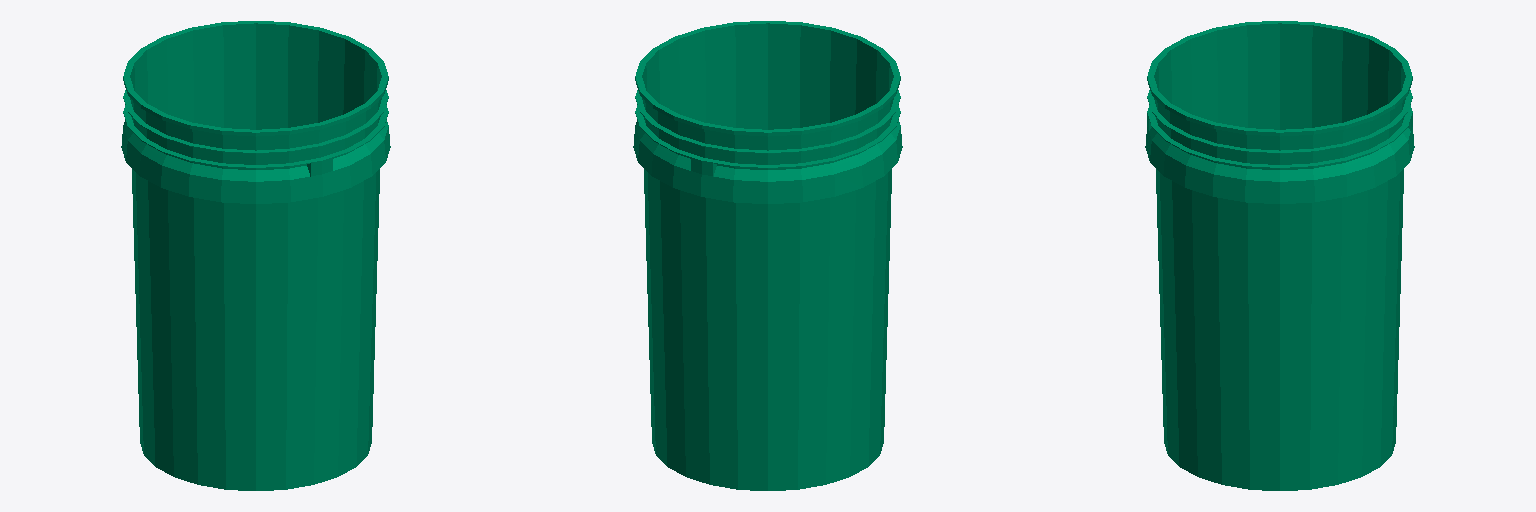
URDF robot description (partnet_c15eb21f-9968-4775-aaf6-b73289b06330):
<?xml version="1.0" ?>
<robot name="partnet_c15eb21f-9968-4775-aaf6-b73289b06330">
	<link name="base"/>
	<link name="link_0">
		<visual name="handle-1">
			<origin xyz="0 -0.5685596799850469 0.004653177049010923"/>
			<geometry>
				<mesh filename="textured_objs/original-14.obj"/>
			</geometry>
		</visual>
		<visual name="handle-1">
			<origin xyz="0 -0.5685596799850469 0.004653177049010923"/>
			<geometry>
				<mesh filename="textured_objs/original-11.obj"/>
			</geometry>
		</visual>
		<visual name="handle-1">
			<origin xyz="0 -0.5685596799850469 0.004653177049010923"/>
			<geometry>
				<mesh filename="textured_objs/original-13.obj"/>
			</geometry>
		</visual>
		<collision>
			<origin xyz="0 -0.5685596799850469 0.004653177049010923"/>
			<geometry>
				<mesh filename="manual_processed/original-11.obj"/>
			</geometry>
		</collision>
	</link>
	<joint name="joint_0" type="revolute">
		<origin xyz="0 0.5685596799850469 -0.004653177049010923"/>
		<axis xyz="-1 0 0"/>
		<child link="link_0"/>
		<parent link="link_1"/>
		<limit lower="-0.0439822971502571" upper="4.762654462842126"/>
	</joint>
	<link name="link_1">
		<visual name="base_body-2">
			<origin xyz="0 0 0"/>
			<geometry>
				<mesh filename="textured_objs/original-4.obj"/>
			</geometry>
		</visual>
		<visual name="base_body-2">
			<origin xyz="0 0 0"/>
			<geometry>
				<mesh filename="textured_objs/original-3.obj"/>
			</geometry>
		</visual>
		<visual name="base_body-2">
			<origin xyz="0 0 0"/>
			<geometry>
				<mesh filename="textured_objs/original-2.obj"/>
			</geometry>
		</visual>
		<visual name="base_body-2">
			<origin xyz="0 0 0"/>
			<geometry>
				<mesh filename="textured_objs/original-8.obj"/>
			</geometry>
		</visual>
		<visual name="base_body-2">
			<origin xyz="0 0 0"/>
			<geometry>
				<mesh filename="textured_objs/original-9.obj"/>
			</geometry>
		</visual>
		<visual name="base_body-2">
			<origin xyz="0 0 0"/>
			<geometry>
				<mesh filename="textured_objs/original-5.obj"/>
			</geometry>
		</visual>
		<visual name="base_body-2">
			<origin xyz="0 0 0"/>
			<geometry>
				<mesh filename="textured_objs/original-6.obj"/>
			</geometry>
		</visual>
		<visual name="base_body-2">
			<origin xyz="0 0 0"/>
			<geometry>
				<mesh filename="textured_objs/original-7.obj"/>
			</geometry>
		</visual>
		<collision>
			<origin xyz="0 0 0"/>
			<geometry>
				<mesh filename="manual_processed/original-1.obj"/>
			</geometry>
		</collision>
	</link>
	<joint name="joint_1" type="fixed">
		<origin rpy="1.570796326794897 0 -1.570796326794897" xyz="0 0 0"/>
		<child link="link_1"/>
		<parent link="base"/>
	</joint>
</robot>

--- What the picture shows (computed from the rendered views, not written in the file) ---
3 views of the same robot in one strip: view 1: azimuth 30°, elevation 25°; view 2: azimuth 150°, elevation 25°; view 3: azimuth 270°, elevation 25° (orthographic).
Robot: partnet_c15eb21f-9968-4775-aaf6-b73289b06330 — 3 links, 2 joints (1 revolute, 1 fixed); root link base; default pose: all joints at 0.
Visible links, largest first — view 1: link_1; view 2: link_1; view 3: link_1.
Boxes of the visible links, left/top/right/bottom form: link_1: left=121, top=21, right=390, bottom=490; link_1: left=633, top=21, right=902, bottom=490; link_1: left=1145, top=21, right=1414, bottom=490.
Size in the robot's own frame: 1.31 by 1.31 by 1.96 metres.
8 mesh visuals loaded from 11 distinct referenced files (8 OBJ); not drawn: 3 (reference not matched to a file when rendering).